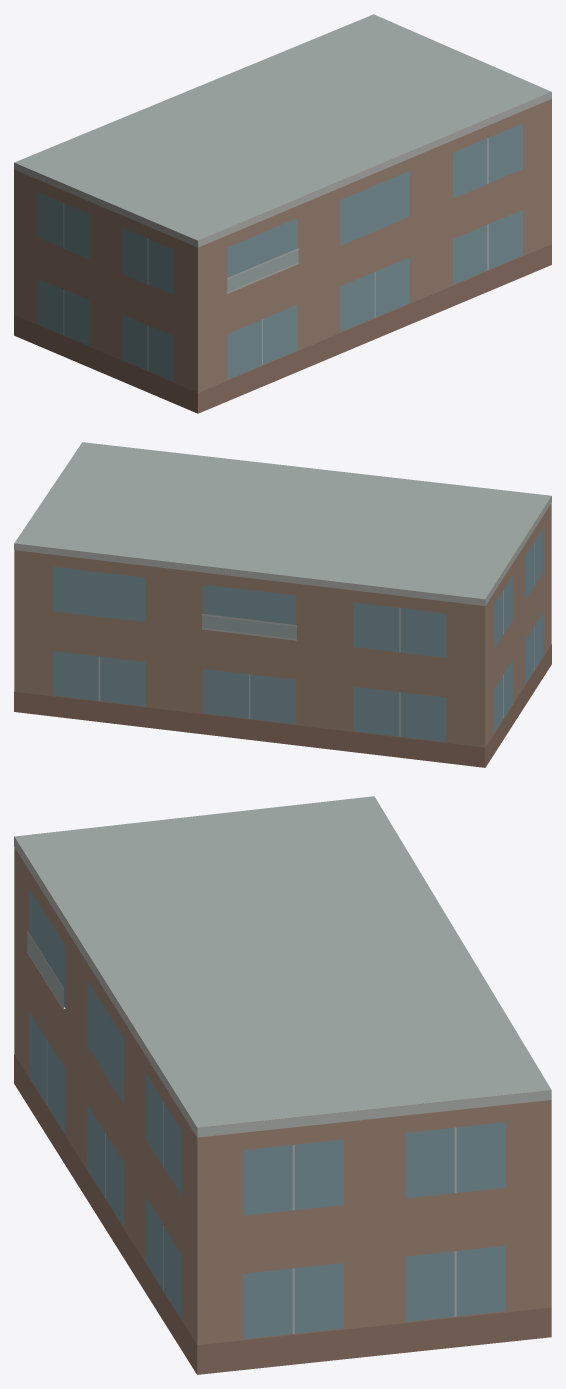
File: survey-upis-32715189.glb
3 views of the same model, one above another, from view 1: azimuth 30°, elevation 25°; view 2: azimuth 150°, elevation 25°; view 3: azimuth 270°, elevation 25° (orthographic). The views are drawn at different scales.
Visible parts, largest first — view 1: survey-upis-32715189.tmp; view 2: survey-upis-32715189.tmp; view 3: survey-upis-32715189.tmp.
Part boxes in pixels (left/top/right/bottom): survey-upis-32715189.tmp: left=14, top=14, right=551, bottom=413; survey-upis-32715189.tmp: left=14, top=442, right=551, bottom=767; survey-upis-32715189.tmp: left=14, top=796, right=551, bottom=1374.
Bounding box in the file's own units: 17.57 × 6.1 × 12.04.
